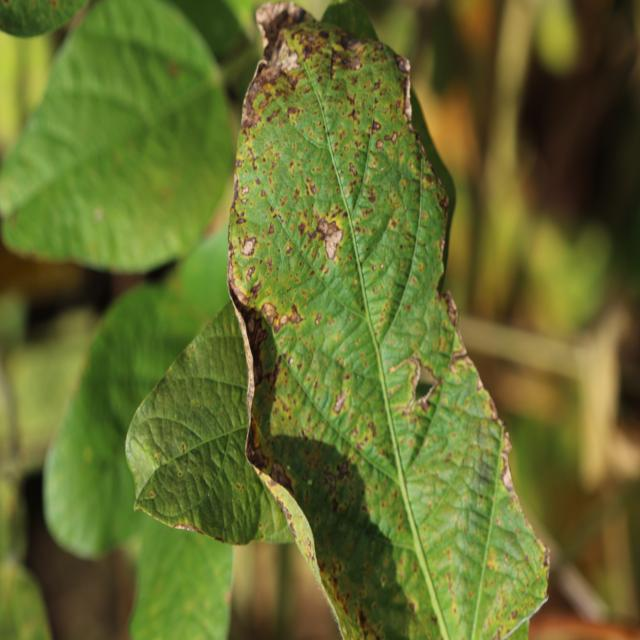Bacterial_Blight: (280, 204, 344, 268), (257, 471, 308, 539), (461, 337, 496, 413), (402, 355, 444, 410), (252, 350, 283, 417), (256, 291, 305, 333), (240, 321, 256, 446), (251, 65, 282, 129), (320, 456, 354, 499), (227, 258, 255, 307), (331, 41, 366, 74), (270, 31, 298, 66), (168, 521, 217, 540), (399, 69, 413, 117), (499, 453, 515, 490), (444, 290, 459, 329), (301, 36, 324, 59), (250, 58, 270, 82), (333, 389, 348, 414), (231, 175, 242, 207), (540, 542, 552, 571), (241, 235, 257, 256), (304, 177, 319, 198), (357, 608, 370, 632), (272, 209, 287, 228), (397, 56, 410, 73), (370, 119, 380, 140), (438, 194, 449, 212), (347, 107, 359, 123), (348, 162, 358, 177), (292, 188, 301, 202), (390, 130, 398, 145), (297, 222, 306, 235), (267, 222, 275, 235), (323, 126, 331, 139), (285, 245, 292, 255), (288, 356, 294, 366), (181, 443, 186, 453), (379, 263, 385, 270), (149, 491, 154, 498)
Soybean: (228, 3, 549, 640)
